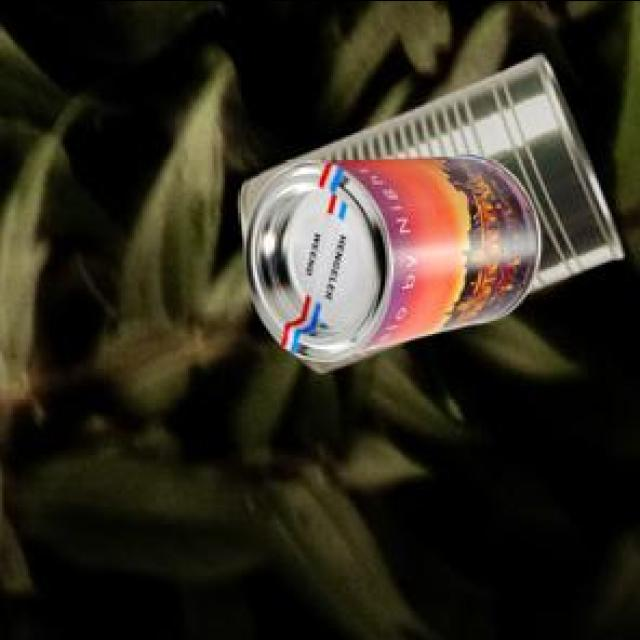logam: (237, 59, 619, 375), (241, 157, 537, 362)
